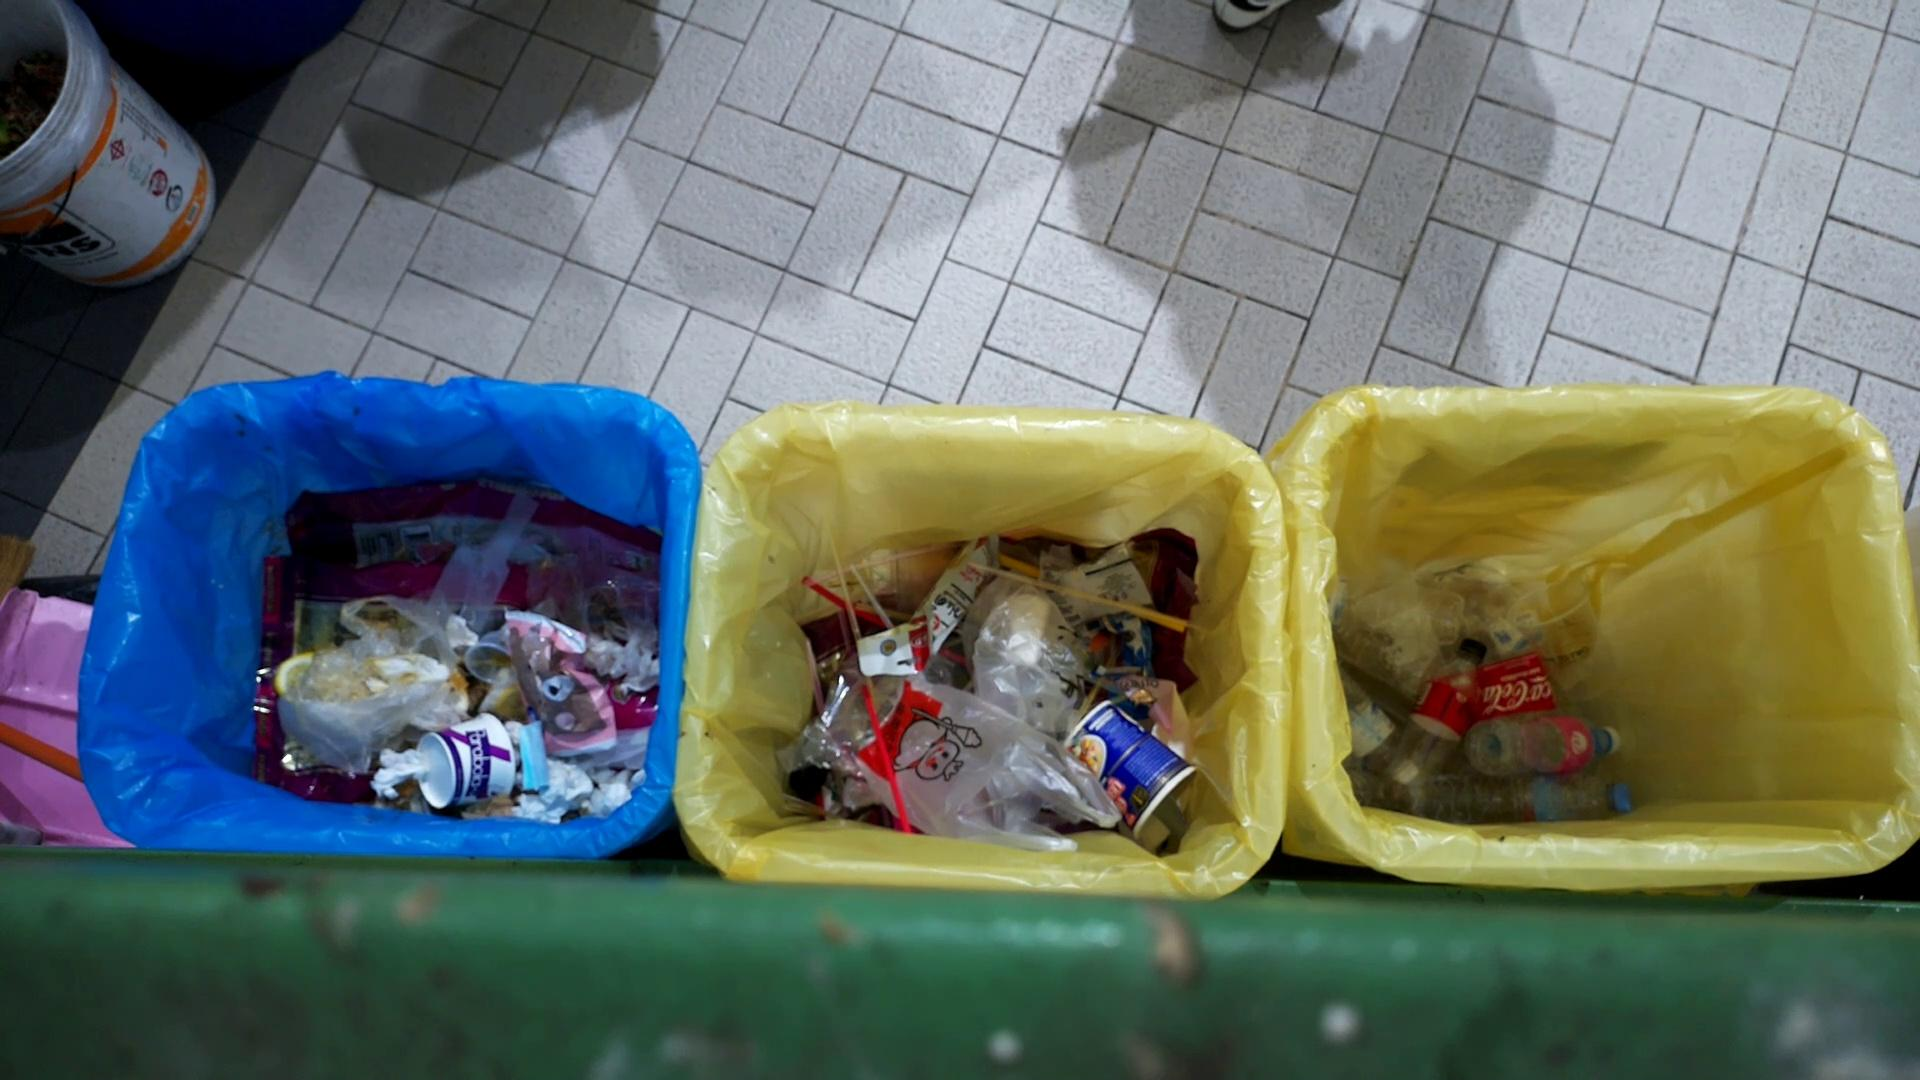filled plastic bag: (268, 581, 474, 770), (967, 571, 1092, 736)
food container: (1058, 697, 1203, 841), (411, 707, 518, 812), (459, 626, 525, 687)
plastic bag: (839, 667, 1118, 850)
plastic bottle: (1384, 641, 1500, 817), (1456, 704, 1628, 782), (1320, 569, 1466, 648), (1336, 661, 1423, 788), (1446, 767, 1640, 821)
plastic cup: (1505, 572, 1624, 702)
snack packaging: (471, 592, 656, 746), (855, 531, 1003, 680), (1051, 543, 1152, 630)
straw: (967, 561, 1186, 634), (861, 684, 909, 836), (812, 541, 967, 581), (827, 528, 862, 638), (847, 560, 898, 635)
tissue paper: (363, 735, 436, 806), (588, 627, 662, 694), (529, 755, 592, 812), (511, 721, 553, 795), (582, 765, 639, 818), (443, 610, 482, 657), (514, 793, 569, 824)
